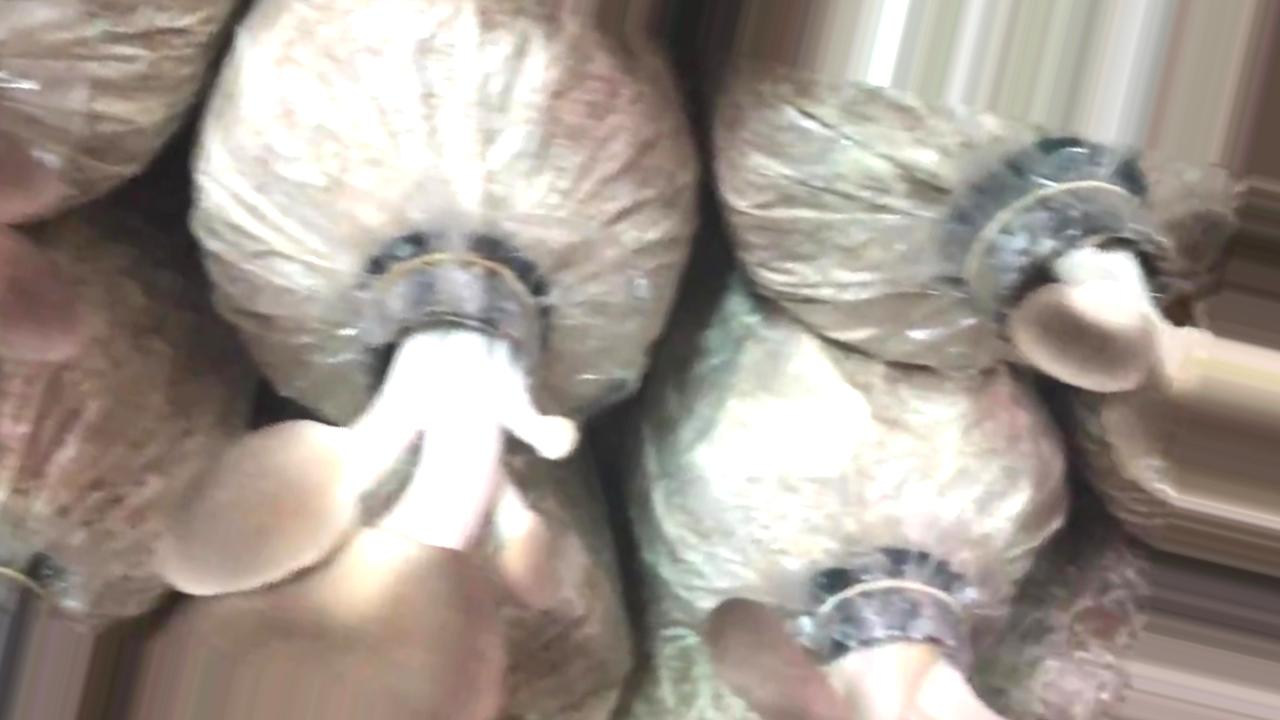nam: (141, 260, 585, 720), (1010, 174, 1280, 527), (707, 573, 1005, 720)
